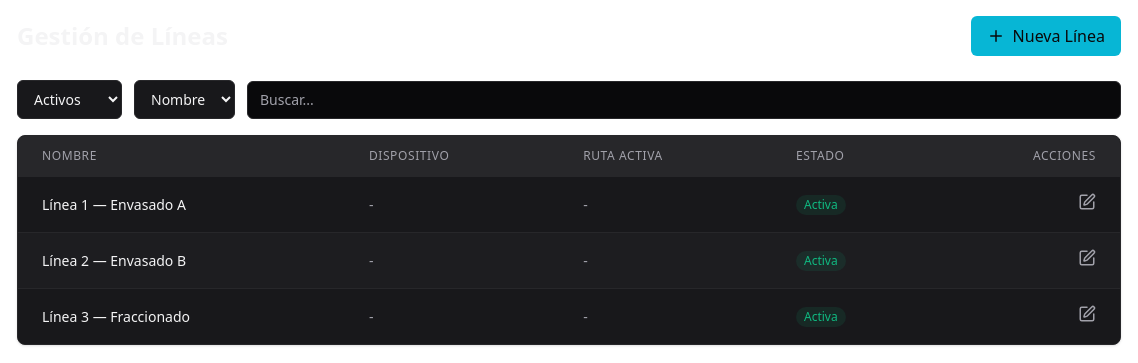
Test case: LineasPage › switching to inactivos shows only inactivos
This screenshot has width=1138, height=363.
Expected: the text "Línea 1 — Envasado A" is shown, [18, 176, 345, 232]
Select "Inactivos" in the 1st dropdown: {"x": 70, "y": 100} [17, 80, 122, 119]
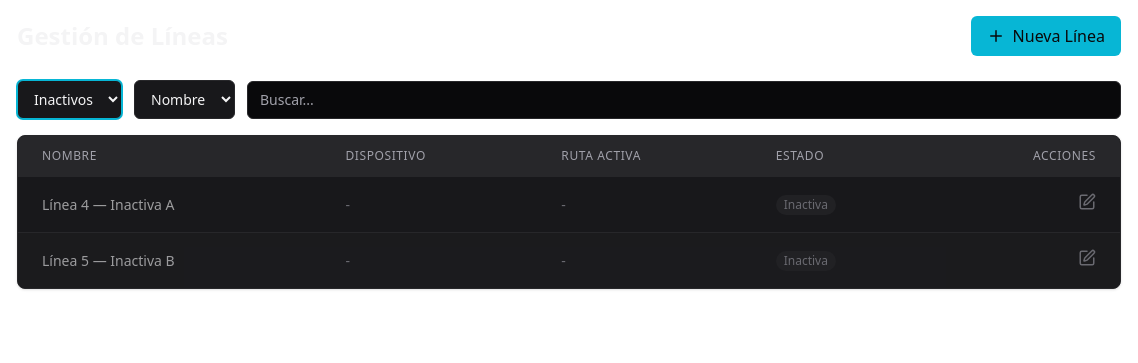
Expected: the text "Línea 4 — Inactiva A" is shown, [18, 176, 321, 232]
Expected: the text "Línea 5 — Inactiva B" is shown, [18, 232, 321, 288]
Expected: the text "Línea 1 — Envasado A" is gone
